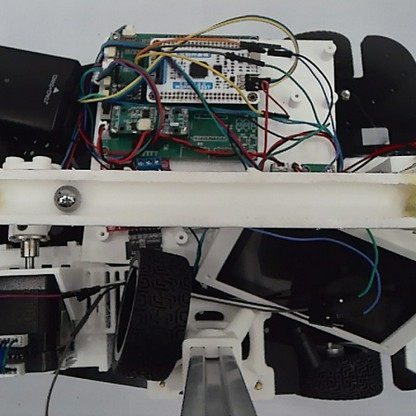ironball: (52, 180, 84, 214)
